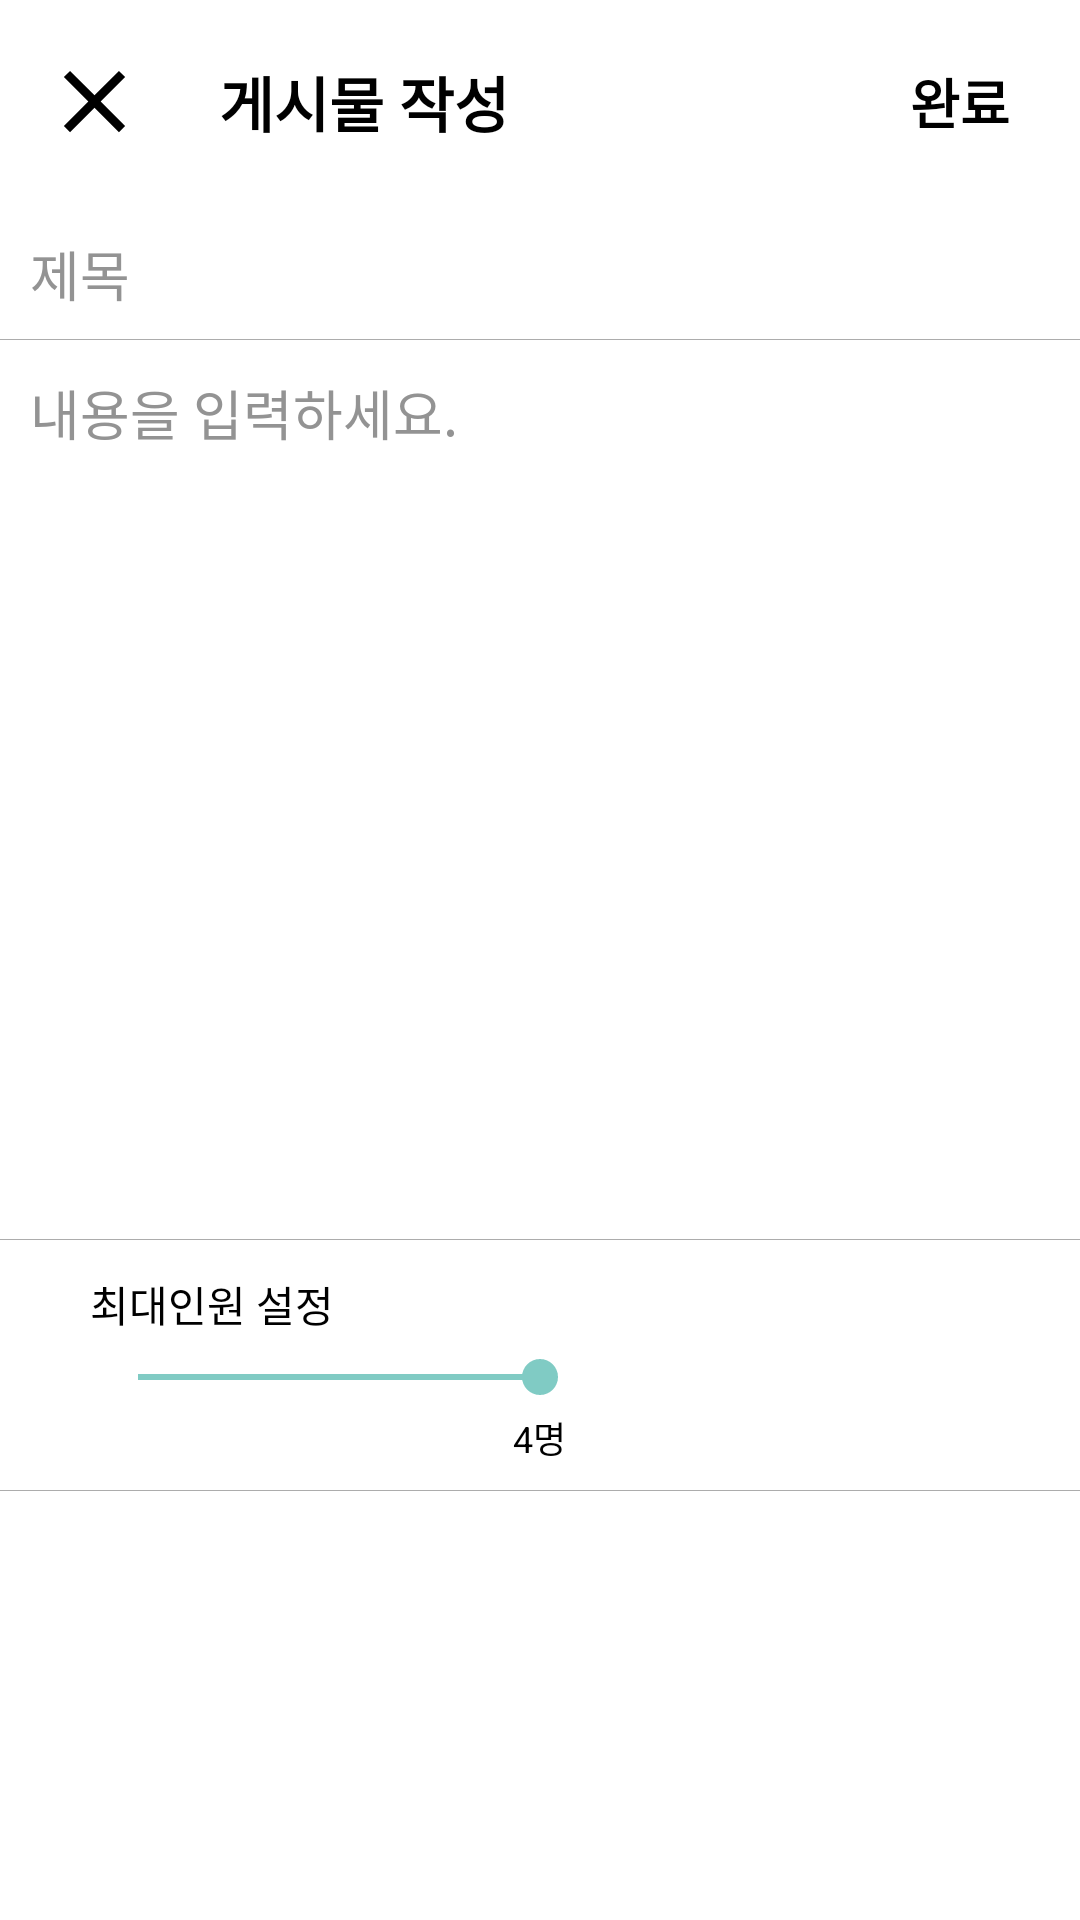

Screen size 1080×1920. Icon name, then its box in pixels as (x1, y1, x2, y2):
close: (64, 71, 125, 132)
